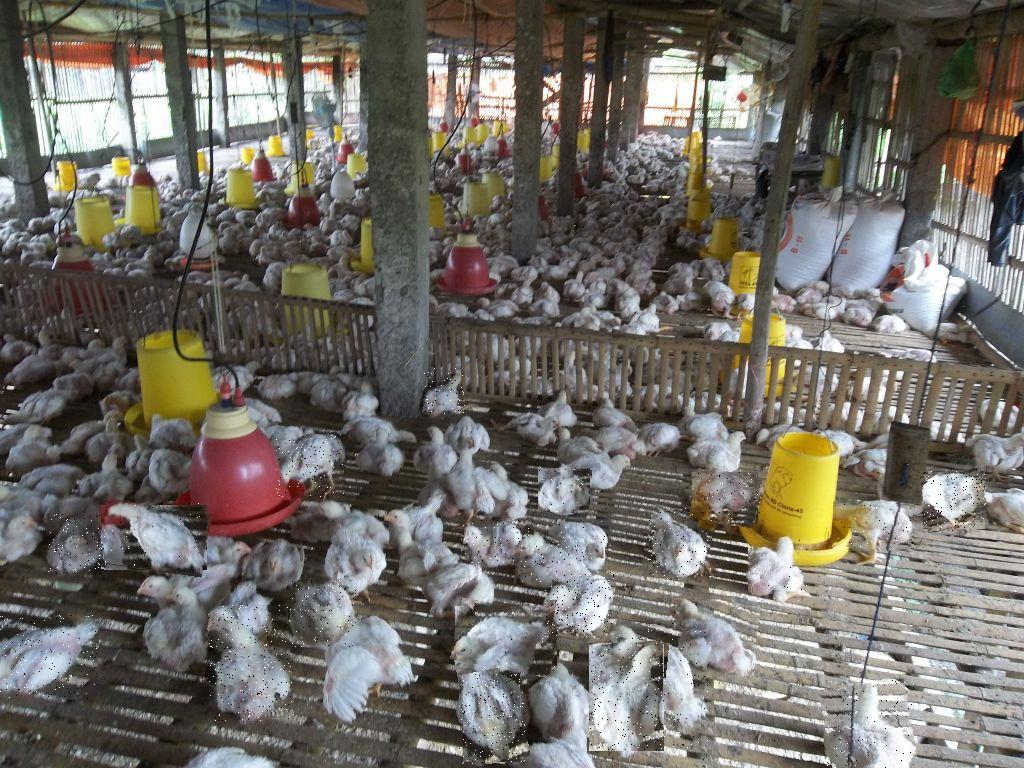chicken: (605, 623, 708, 748), (208, 606, 293, 723), (822, 679, 915, 768), (0, 615, 98, 699), (590, 643, 666, 751), (101, 502, 211, 574), (453, 601, 560, 674), (460, 651, 526, 764), (670, 597, 760, 675), (644, 508, 714, 580), (545, 571, 614, 637), (276, 435, 345, 498), (293, 580, 357, 647), (922, 469, 987, 531), (834, 502, 915, 551), (692, 470, 762, 526), (749, 537, 809, 602), (461, 518, 534, 570), (515, 532, 585, 583), (48, 514, 105, 575), (558, 520, 611, 568), (539, 468, 592, 514), (423, 368, 466, 414)
